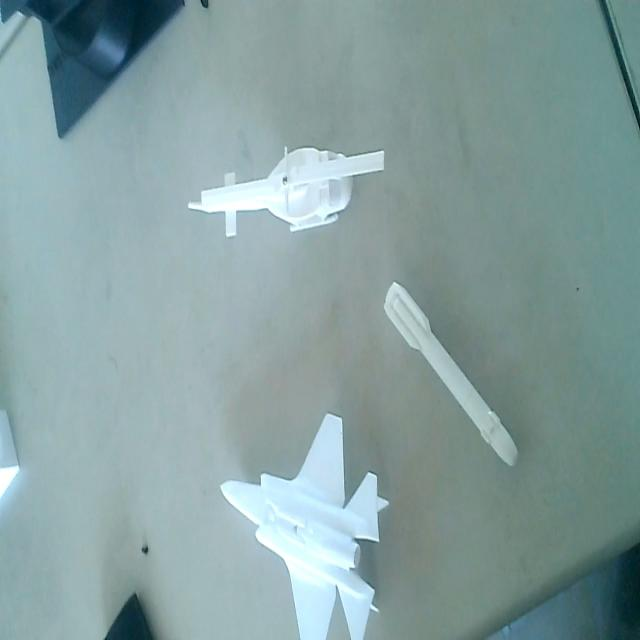Helicopter: (185, 143, 388, 245)
Jet: (220, 404, 389, 640)
Rocket: (380, 271, 521, 472)
